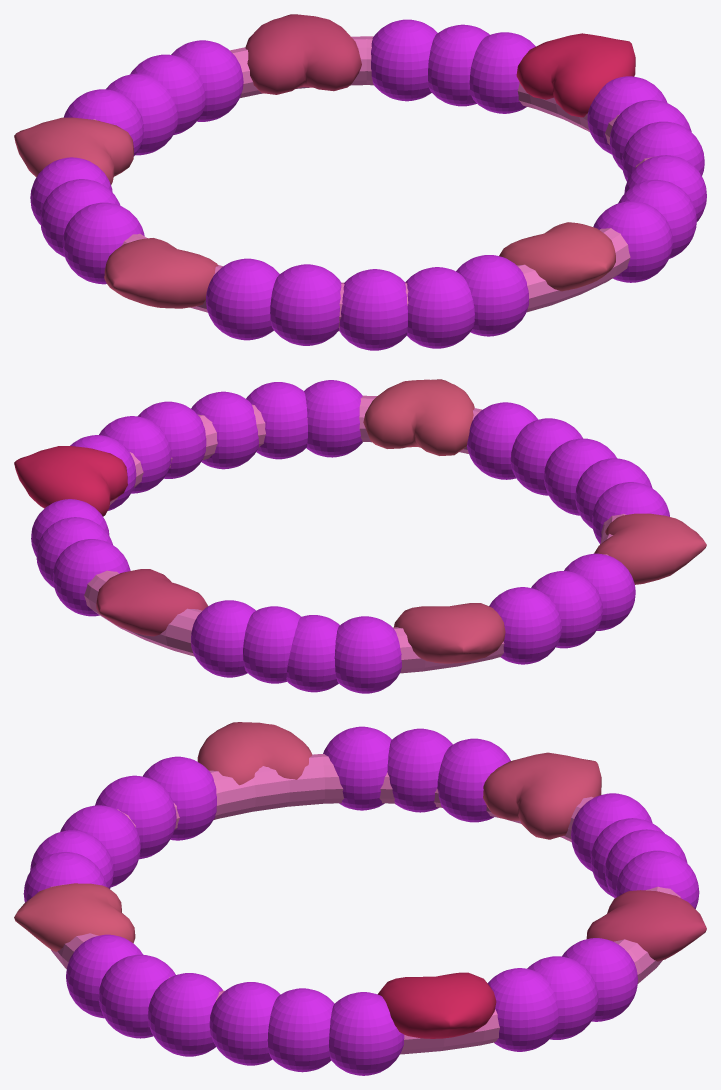
The model's file is Lover.fbx.
The picture shows the model from 3 angles, top to bottom: view 1: azimuth 30°, elevation 25°; view 2: azimuth 150°, elevation 25°; view 3: azimuth 270°, elevation 25°; orthographic projection. The views are drawn at different scales.
Parts seen in each view (by area): view 1: Torus.022; view 2: Torus.022; view 3: Torus.022.
Part boxes in pixels (x1=…): Torus.022: x1=14, y1=14, x2=706, y2=350; Torus.022: x1=14, y1=379, x2=706, y2=693; Torus.022: x1=14, y1=722, x2=706, y2=1075.
Size of the model in its own units: 247 by 34.3 by 232.
